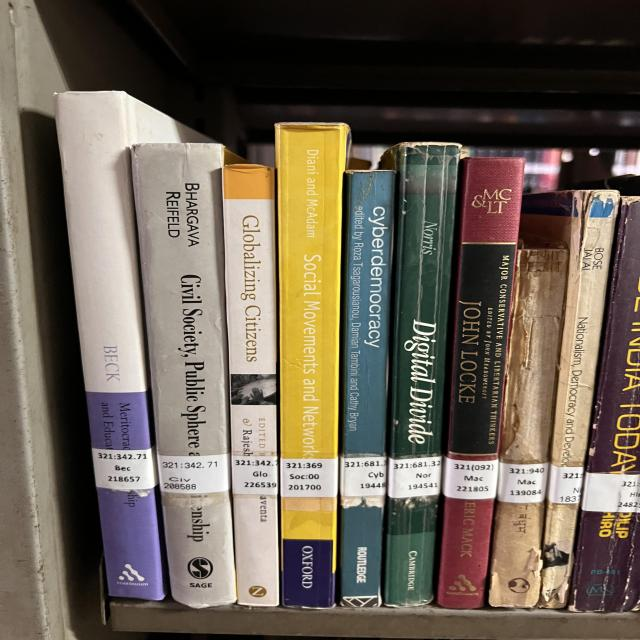Book: (57, 91, 205, 600), (132, 144, 237, 608), (275, 122, 350, 609), (382, 142, 460, 606), (538, 190, 620, 609), (568, 198, 640, 611), (488, 249, 568, 608), (223, 165, 278, 606), (340, 170, 395, 608)
Label: (158, 454, 228, 494), (92, 449, 157, 490), (388, 456, 442, 499), (280, 458, 338, 498), (582, 472, 640, 512), (443, 458, 498, 500), (497, 462, 548, 502), (340, 456, 387, 496), (232, 455, 278, 495), (548, 465, 583, 504)
